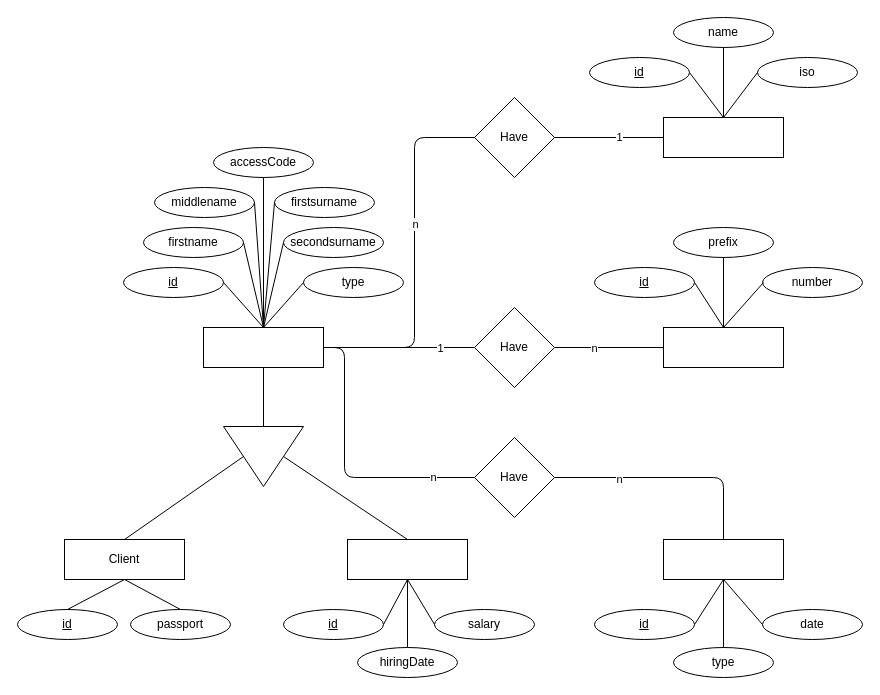
Some shapes in this 880 by 695 pixel diagram are drawn without their labels. The centre of each missing label's shape, as x and y in pixels:
"Control" belongs at (723,559).
"Country" belongs at (723,137).
"Employee" belongs at (407,559).
"ES" belongs at (263,456).
"Phonenumber" belongs at (723,347).
"User" belongs at (263,347).
